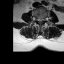CCS_severe_stenosis: (39, 16, 41, 24)
LFS_normal: (43, 16, 45, 22)
LLS_normal: (41, 16, 43, 23)
RFS_normal: (36, 16, 38, 22)
RLS_normal: (38, 16, 39, 23)
